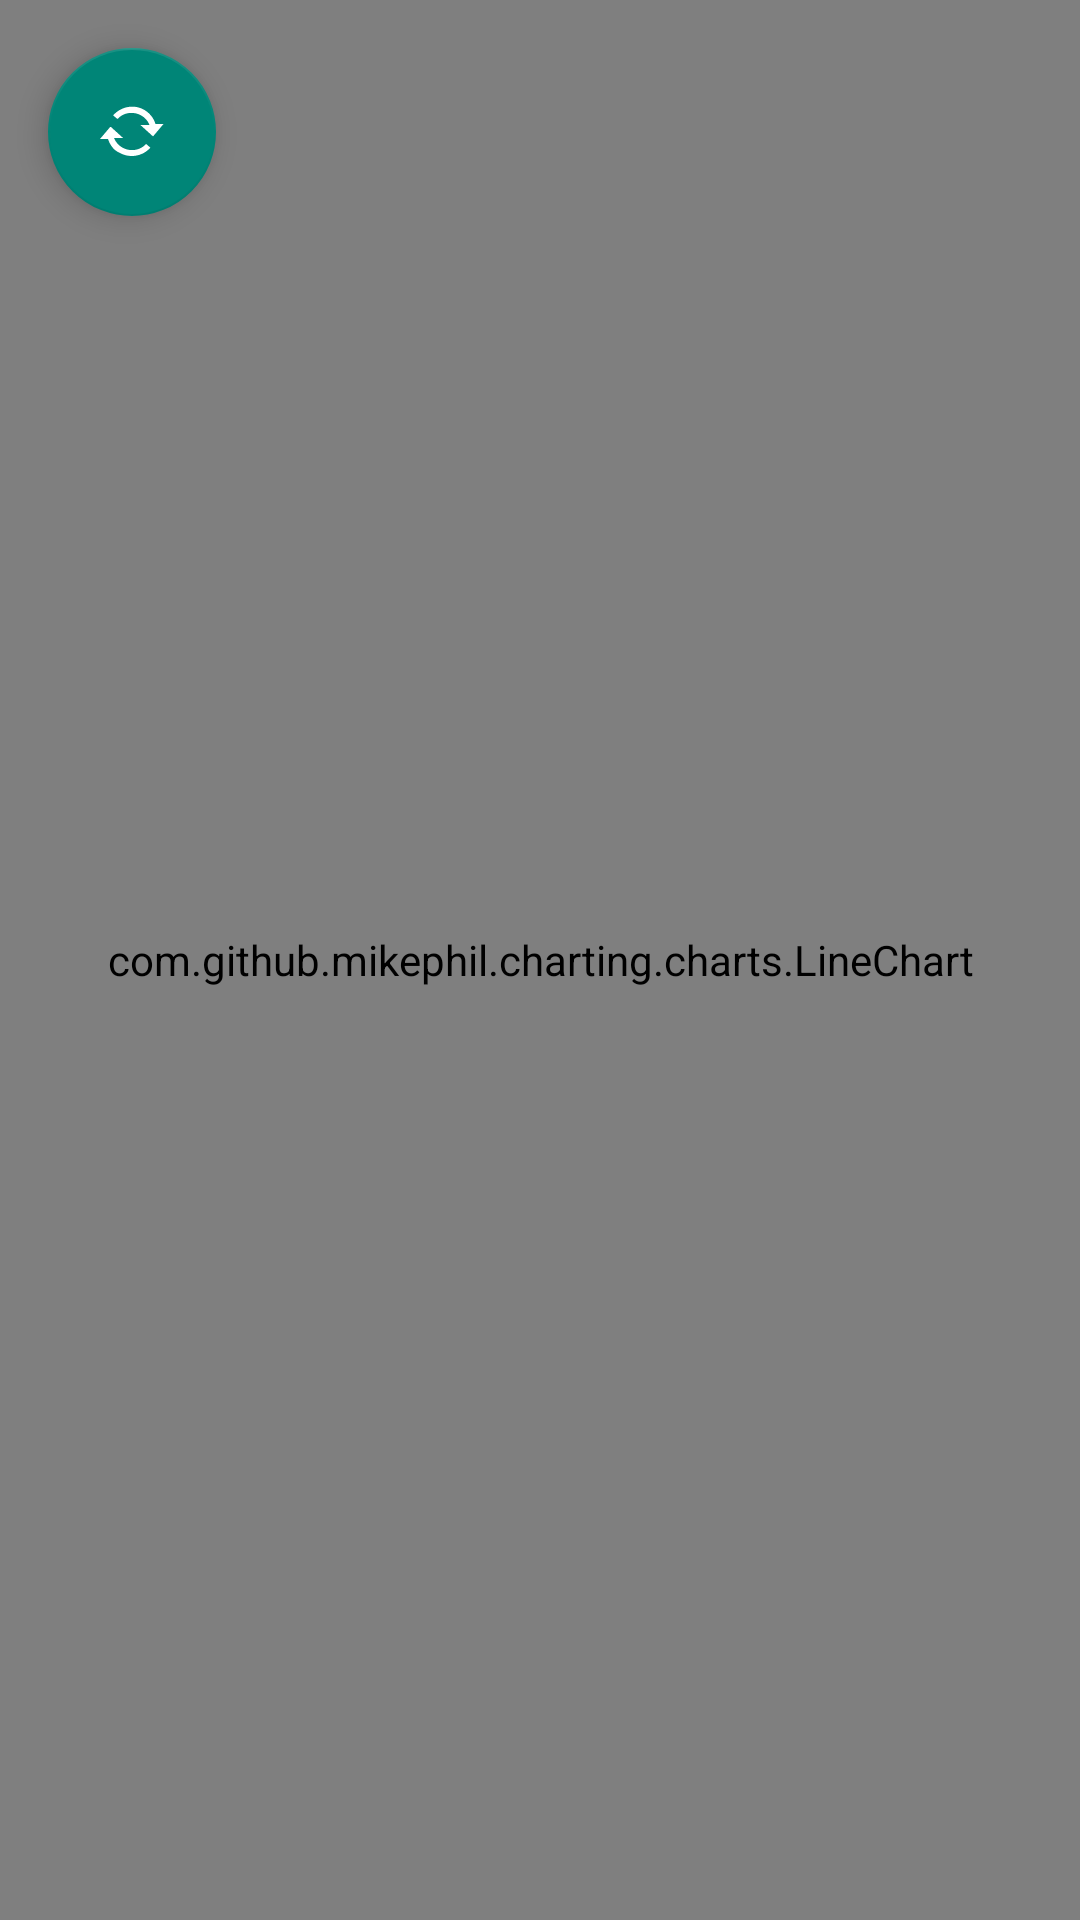

Screen size 1080×1920. Icon name, then its center in pixels as (x=x, y=y):
sync: (x=132, y=132)
